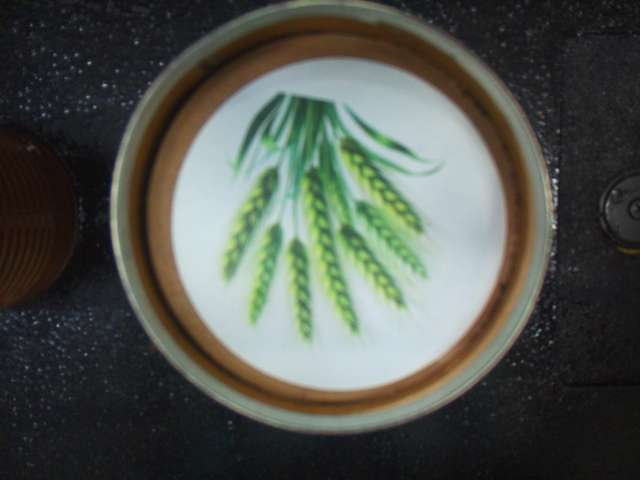wheat_barrel: (210, 90, 450, 357)
